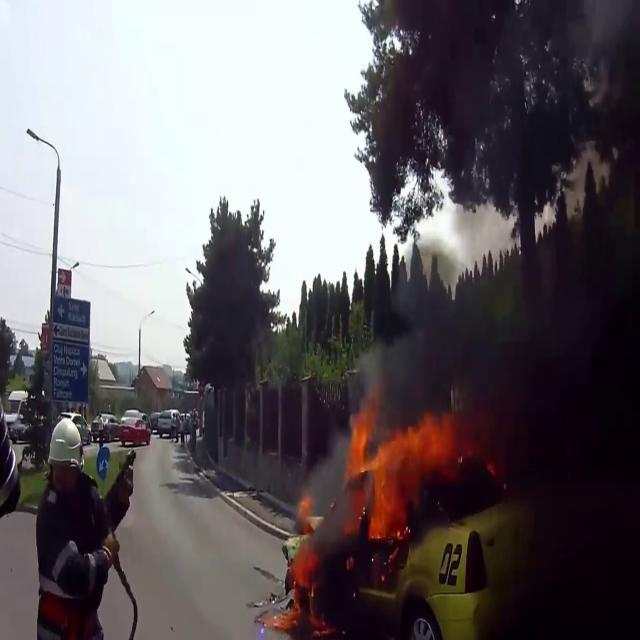Fire: (342, 407, 459, 541)
Smoke: (373, 154, 627, 458)
